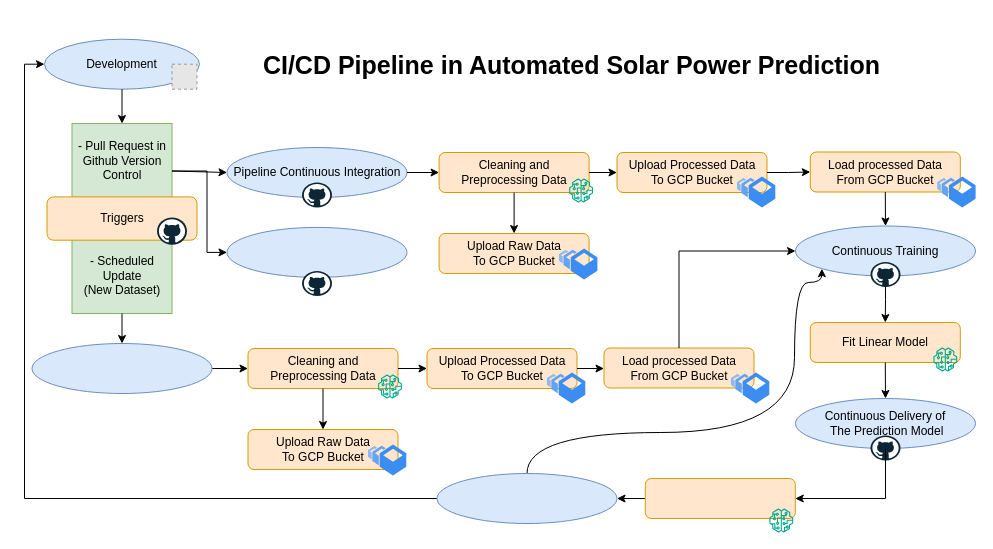
Some shapes in this 993 by 549 pixel diagram are drawn without their labels. Grey dashed boxes stand in for pictures. The shapes that lost their labels are listed below. From the top down, each one's centre as x and y in pixels, then its label:
At [316,251]: "Manage GCP Buckets (Terraform)".
At [121,368]: "Loading Data".
At [526,498]: "Monitoring".
At [719,498]: "Solar Energy Forecast".
